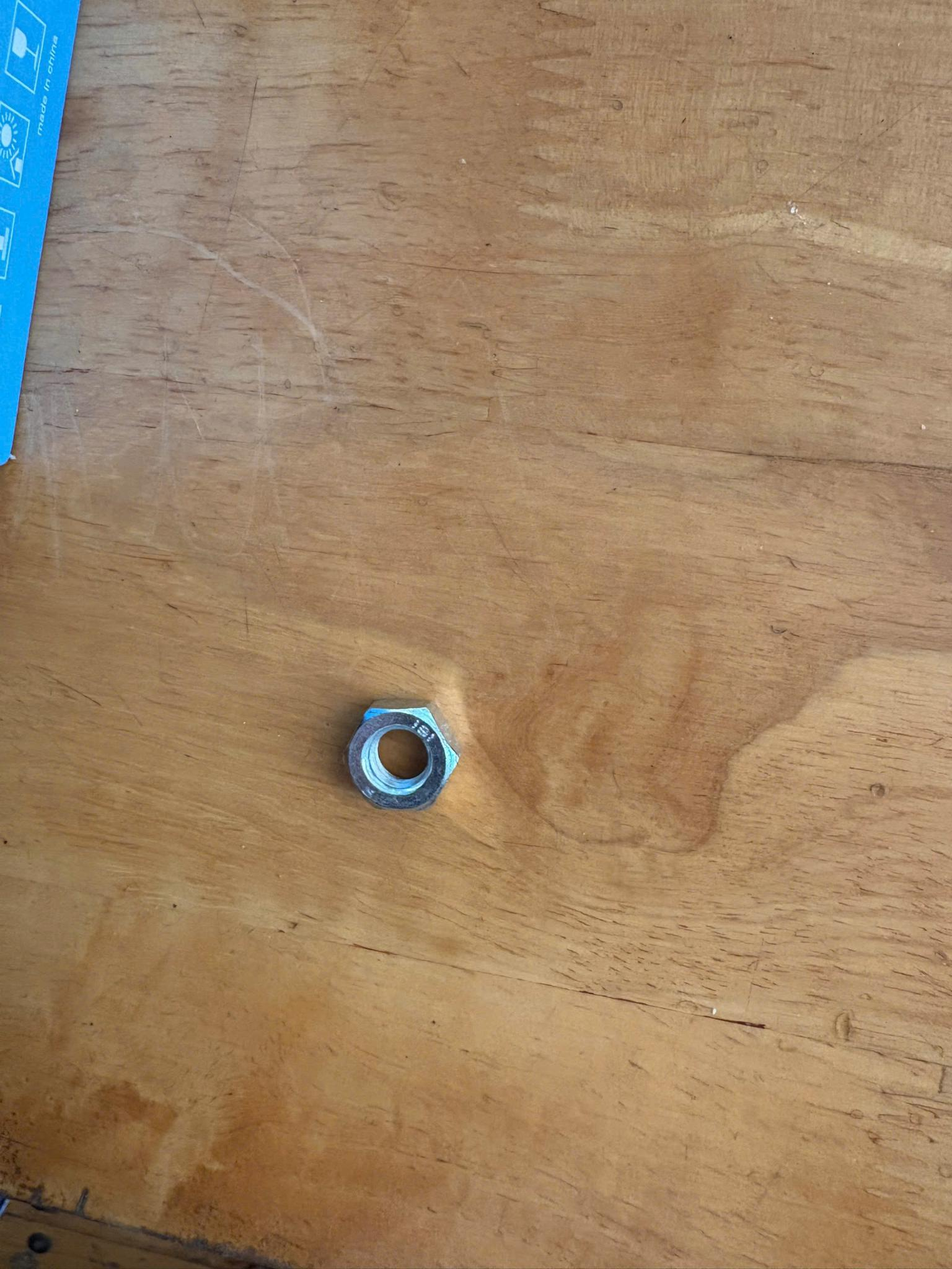nut: (332, 690, 470, 837)
